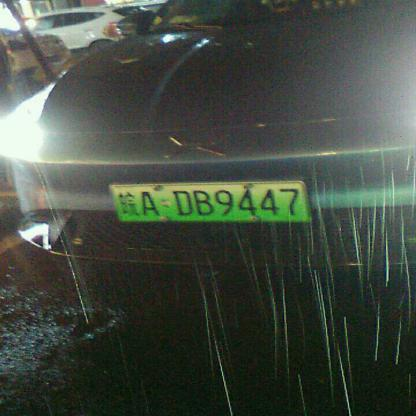lp: (110, 181, 310, 221)
